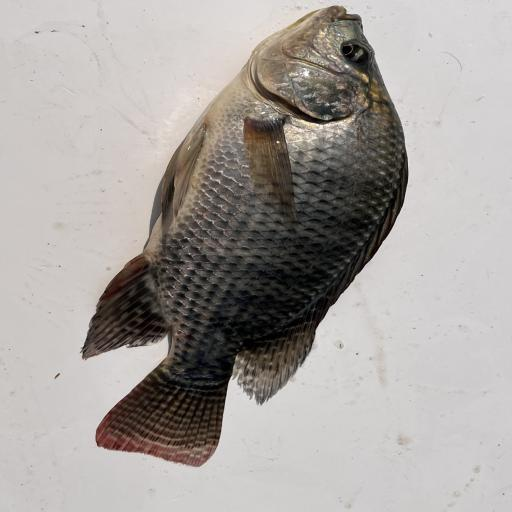Tilapia: (81, 5, 408, 467)
